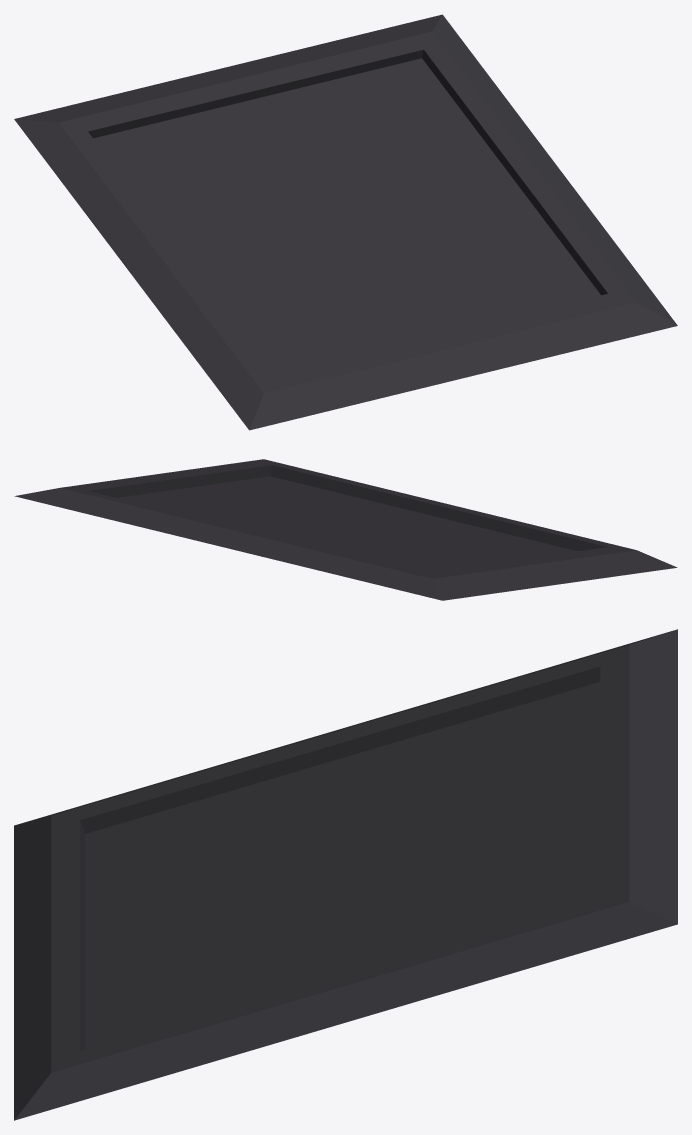
Rendered from Flip_button_base.glb.
3 views of the same model, one above another, from view 1: azimuth 30°, elevation 25°; view 2: azimuth 150°, elevation 25°; view 3: azimuth 270°, elevation 25° (orthographic). The views are drawn at different scales.
Parts seen in each view (by area): view 1: Flip_button; view 2: Flip_button; view 3: Flip_button.
Boxes of the visible parts, x1,y1,x2,y2 form: Flip_button: (14, 14, 677, 430); Flip_button: (14, 459, 677, 600); Flip_button: (14, 629, 677, 1120).
Bounding box in the file's own units: 0.3403 × 0.1074 × 0.3235.
1 material, 1 textured.
